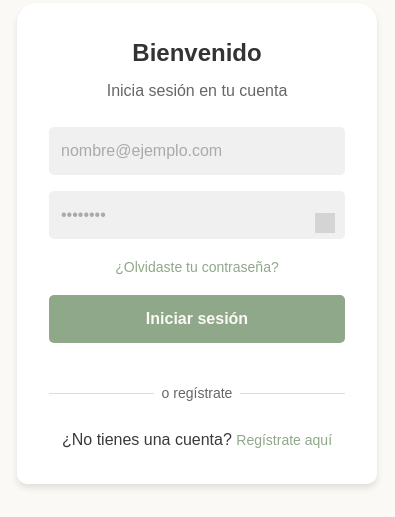
LoginPage › debería mostrar un error si loginUser falla
Step 1. Type "test@example.com" into the field with placeholder "nombre@ejemplo.com" → point(197, 150), box [49,126,345,174]
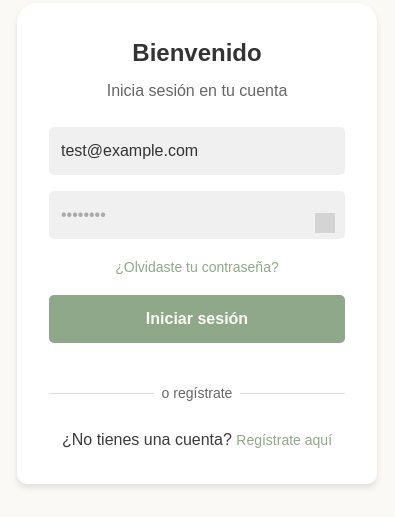
Step 2. Type "password123" into the password field with placeholder "••••••••" → point(197, 214), box [49,190,345,238]
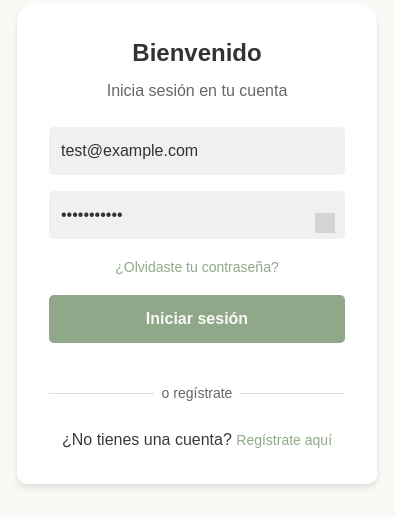
Step 3. Click the button "Iniciar sesión" → point(197, 318), box [49,294,345,342]
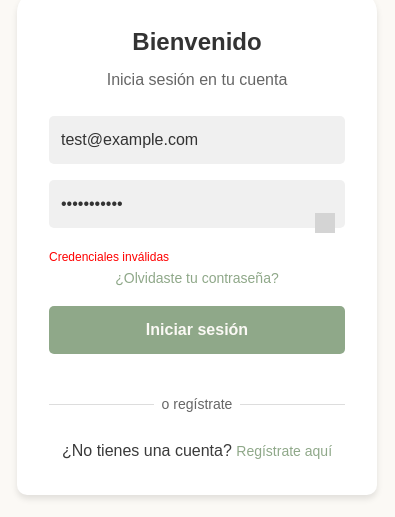
expect the text "Credenciales inválidas" is shown: met, box [49,250,169,264]
